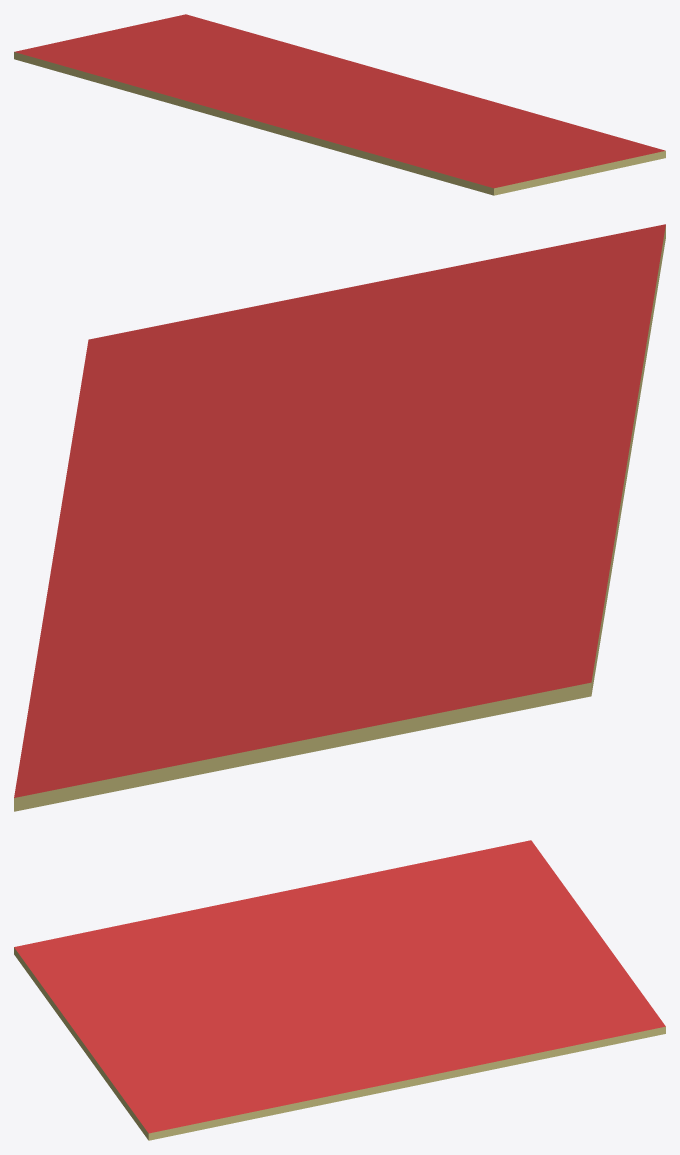
3 renders of one model, top to bottom at view 1: azimuth 30°, elevation 25°; view 2: azimuth 150°, elevation 25°; view 3: azimuth 270°, elevation 25°, orthographic. The views are drawn at different scales.
Size of the model in its own units: 6.57 by 8.11 by 1.06.
